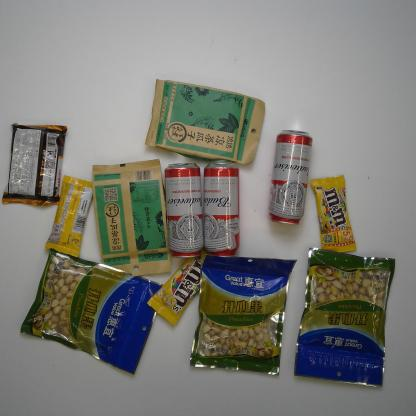Alcohol: (266, 128, 314, 227), (162, 157, 204, 260), (198, 162, 242, 260)
Chocolate: (144, 252, 207, 329), (46, 172, 98, 263), (308, 174, 358, 256)
Dessert: (3, 118, 70, 212)
Dried Food: (144, 76, 268, 170), (91, 157, 174, 282)
Dried Fruit: (17, 245, 166, 378), (292, 246, 397, 390), (188, 250, 297, 378)
